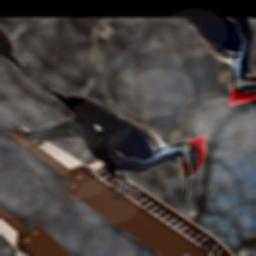Woodpecker: (2, 33, 230, 247)
